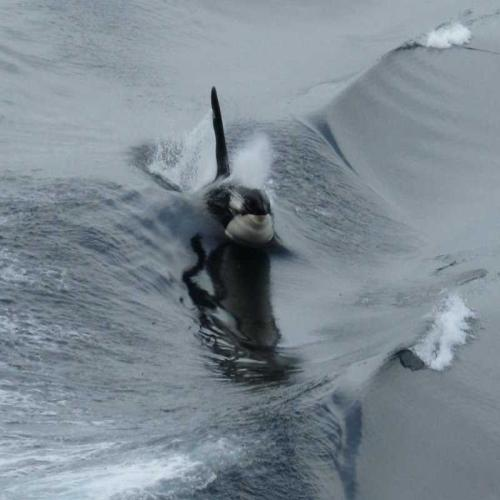killer_whale-endangered: (160, 124, 286, 258)
